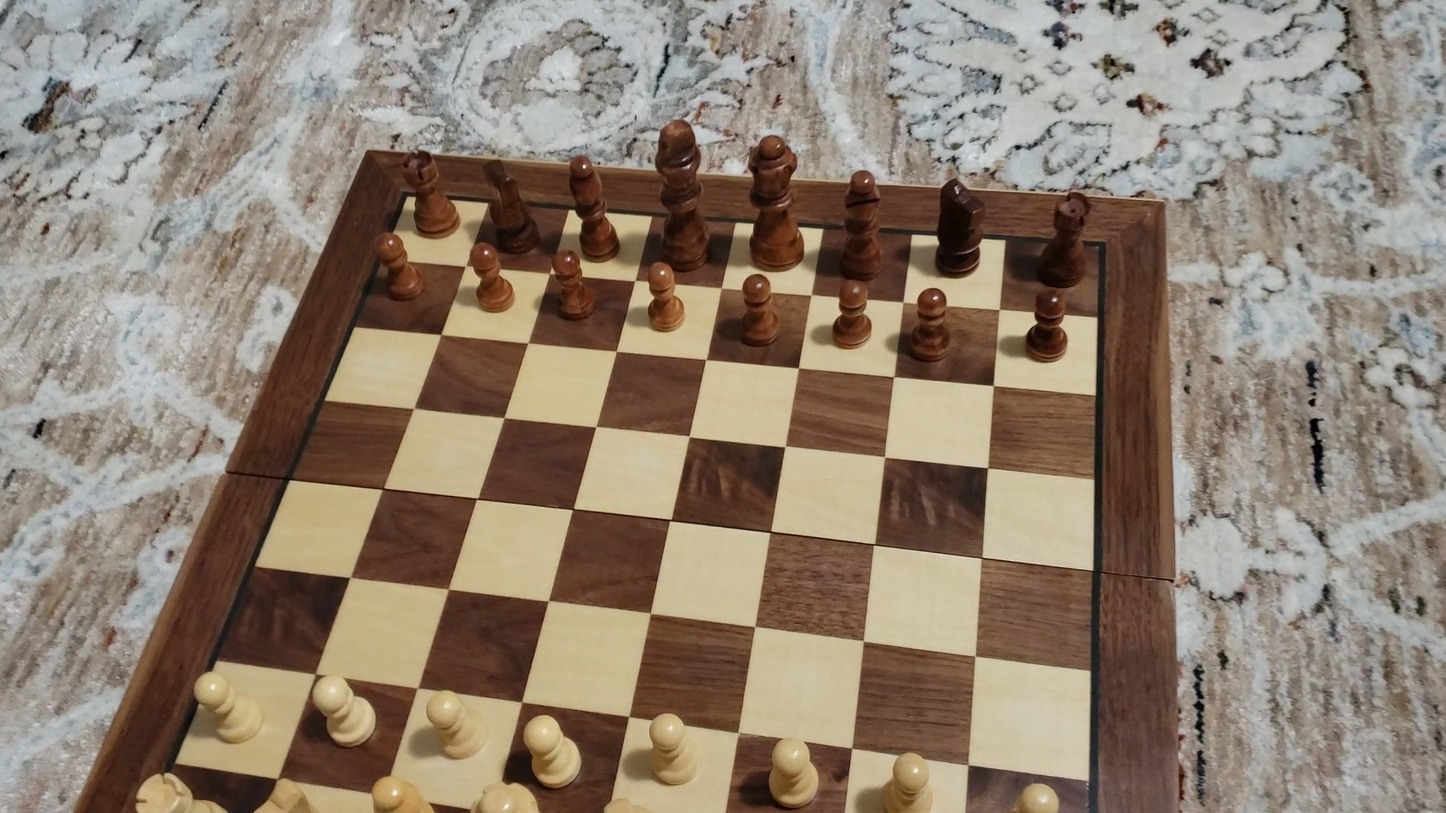black-bishop: (653, 116, 708, 272), (567, 153, 620, 261), (841, 167, 885, 282)
black-knight: (482, 156, 541, 255), (933, 171, 986, 277)
black-pawn: (373, 230, 425, 304), (1023, 288, 1071, 365), (908, 286, 952, 365), (738, 271, 782, 349), (550, 247, 595, 322), (469, 241, 513, 314), (832, 277, 873, 351), (645, 259, 685, 334)
black-queen: (743, 130, 805, 272)
black-rook: (1035, 188, 1093, 289), (402, 146, 460, 239)
white-pawn: (189, 668, 271, 748), (307, 672, 382, 751), (419, 686, 488, 763), (521, 712, 585, 793), (761, 732, 825, 812), (643, 709, 704, 789), (878, 746, 936, 812)
